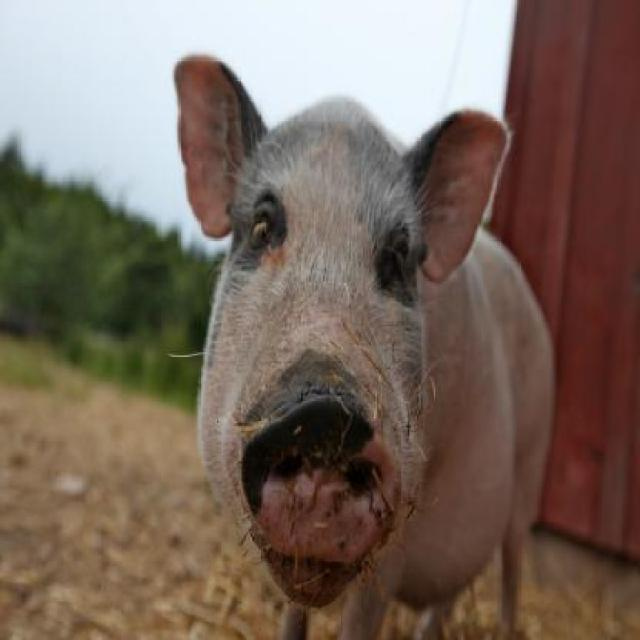pig: (166, 52, 553, 640)
